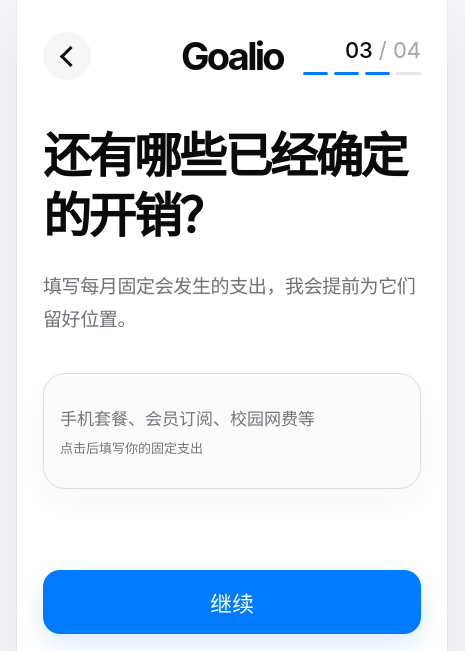
Test: GoalioApp › uses student-oriented fixed expense guidance and saves the user's own expense
The image size is (465, 651).
Expected: the text "手机套餐、会员订阅、校园网费等" is shown, [60,408,315,428]
Click the button with aria-label "填写自己的固定支出" at (232,430), box [60,386,404,476]
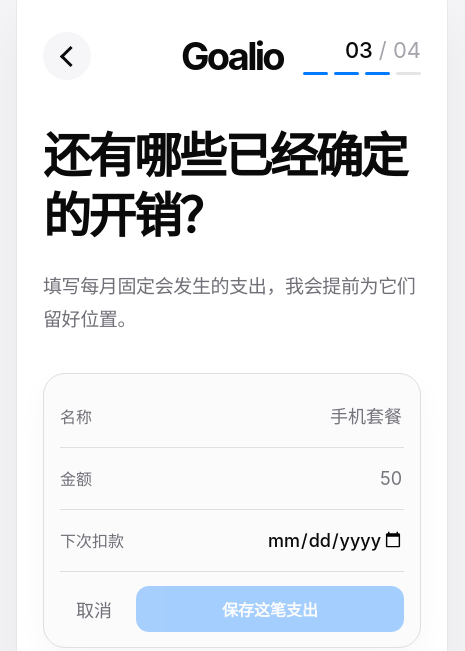
Type "手机话费" into the field named "支出名称" at (284,416), box [164,404,404,428]
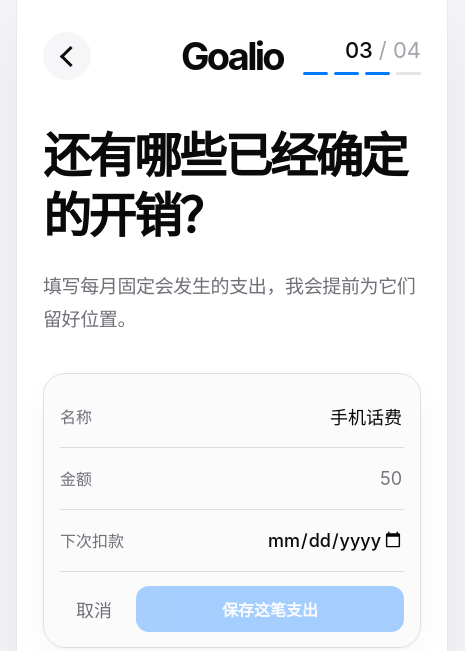
Type "88" into the field named "支出金额" at (284,478), box [164,466,404,490]
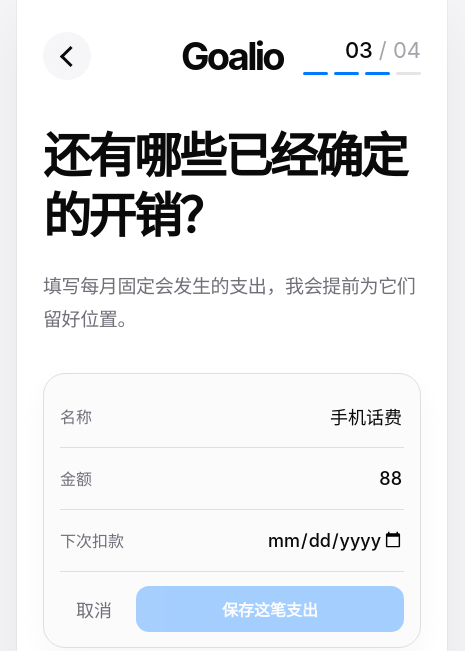
Type "2026-09-28" into the date field named "下次扣款日期" at (284,540), box [164,528,404,552]
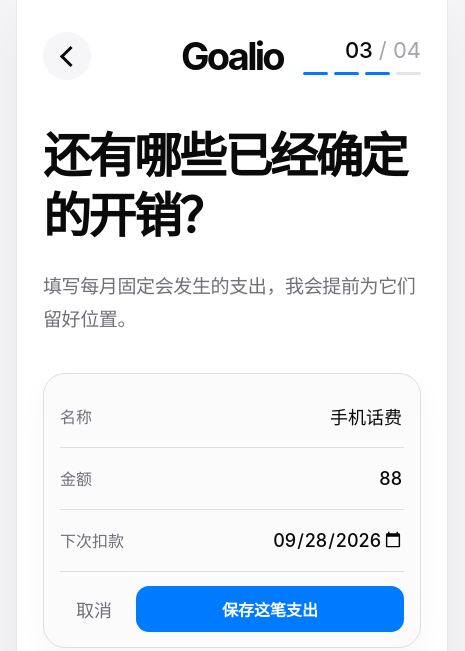
Click the button "保存这笔支出" at (270,608), box [136,586,404,632]
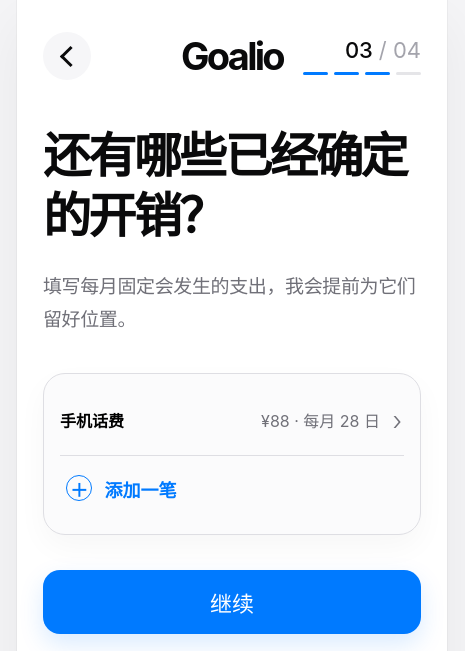
Expected: the text "手机话费" is shown, [60,408,124,432]
Expected: the text "¥88 · 每月 28 日" is shown, [261,408,380,432]
